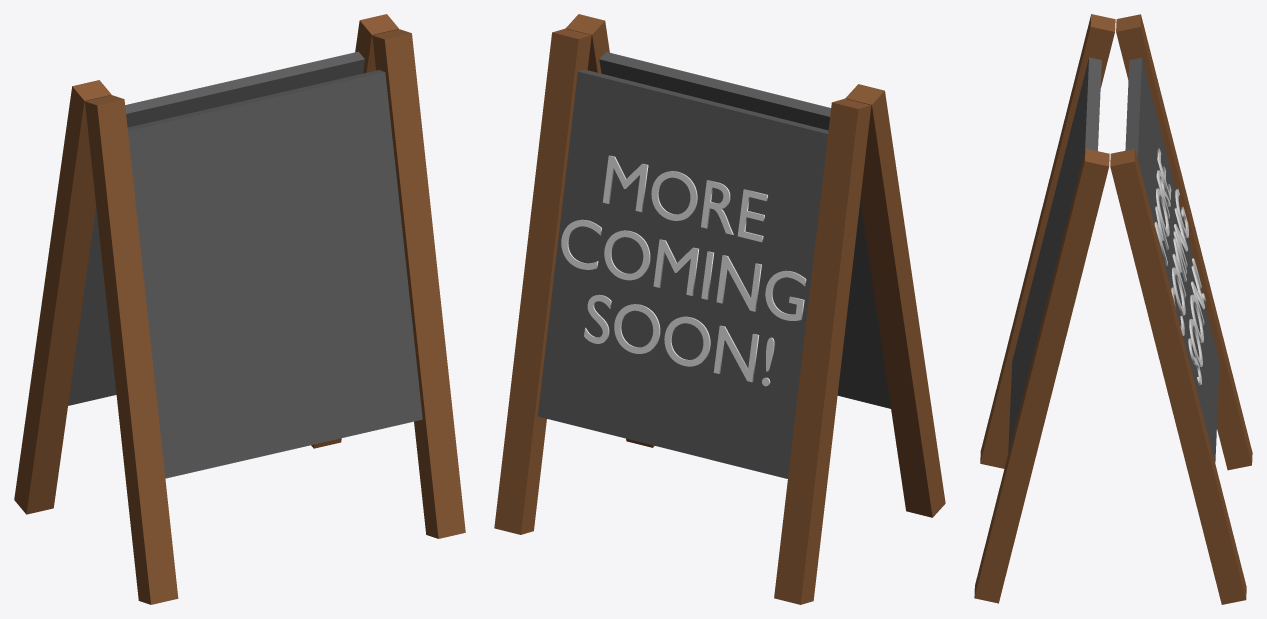
Rendered from Coming soon sign.fbx.
3 views of the same model, side by side, from view 1: azimuth 30°, elevation 25°; view 2: azimuth 150°, elevation 25°; view 3: azimuth 270°, elevation 25° (orthographic). The views are drawn at different scales.
Visible parts, largest first — view 1: Cube.003; view 2: Cube.003, Text; view 3: Cube.003, Text.
Part boxes in pixels (bbox=[...]): Cube.003: bbox=[14, 14, 465, 604]; Cube.003: bbox=[494, 14, 945, 604]; Text: bbox=[561, 155, 806, 386]; Cube.003: bbox=[974, 14, 1252, 604]; Text: bbox=[1154, 148, 1205, 385].
Size of the model in its own units: 214 by 300 by 170.
